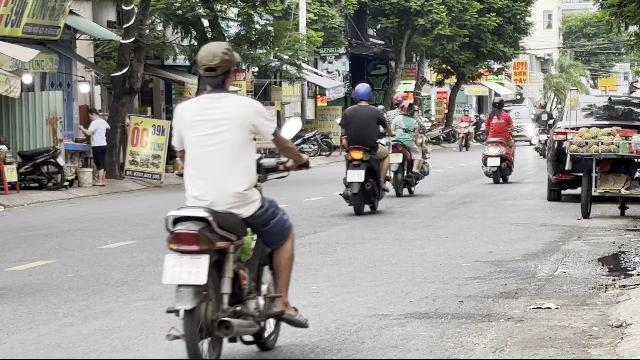helmet: (351, 81, 373, 102)
licenseplate: (162, 253, 208, 284), (347, 170, 365, 182)
motorcyclist: (155, 39, 309, 357), (336, 82, 389, 214)
nohelmet: (192, 40, 240, 92)
